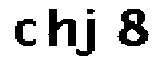8: (116, 6, 148, 53)
c: (13, 17, 38, 49)
h: (46, 5, 79, 48)
j: (79, 2, 99, 58)
